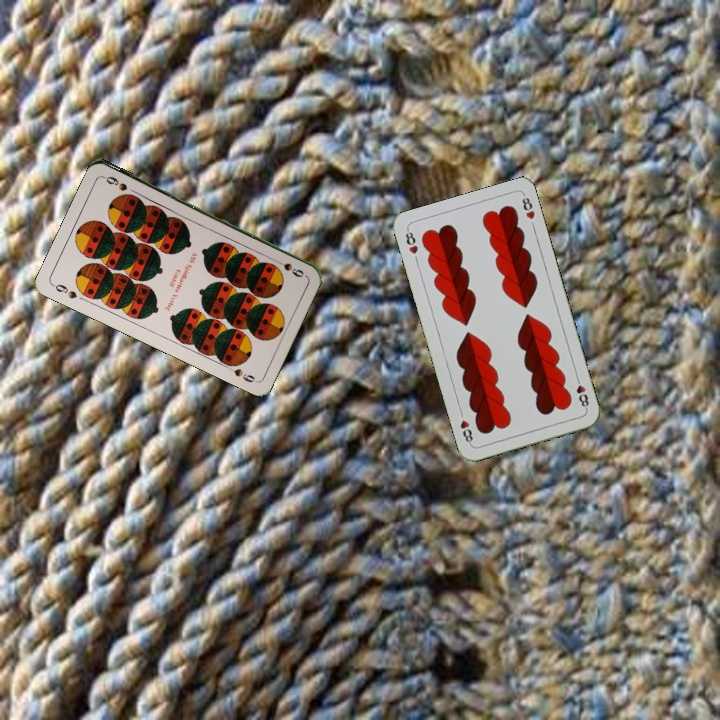H8: (572, 372, 591, 412), (401, 225, 421, 256)
S9: (269, 255, 306, 279), (49, 280, 80, 301)
